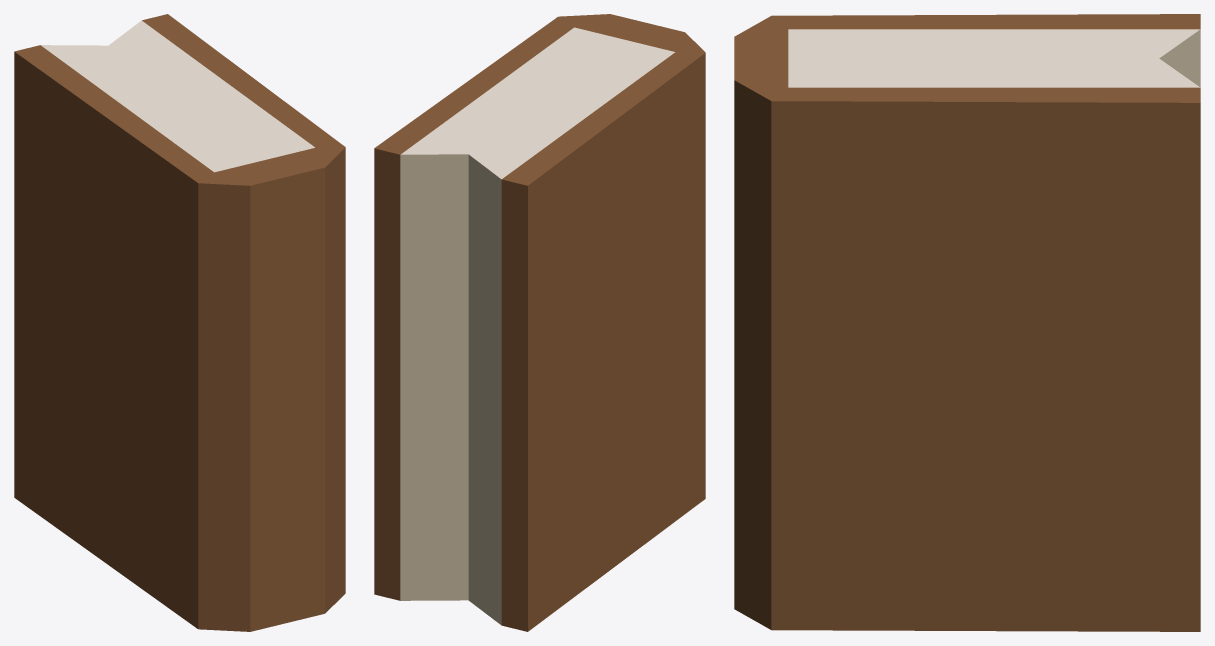
Rendered from TB_D_Prop_Book_Small_A.FBX.
3 renders of one model, left to right at view 1: azimuth 30°, elevation 25°; view 2: azimuth 150°, elevation 25°; view 3: azimuth 270°, elevation 25°, orthographic. The views are drawn at different scales.
Parts seen in each view (by area): view 1: TB_D_Prop_Book_Small_A; view 2: TB_D_Prop_Book_Small_A; view 3: TB_D_Prop_Book_Small_A.
Boxes of the visible parts, x1,y1,x2,y2 form: TB_D_Prop_Book_Small_A: (14,14,345,631); TB_D_Prop_Book_Small_A: (374,14,705,631); TB_D_Prop_Book_Small_A: (734,14,1200,631).
Size of the model in its own units: 0.182 by 0.5049 by 0.4035.
